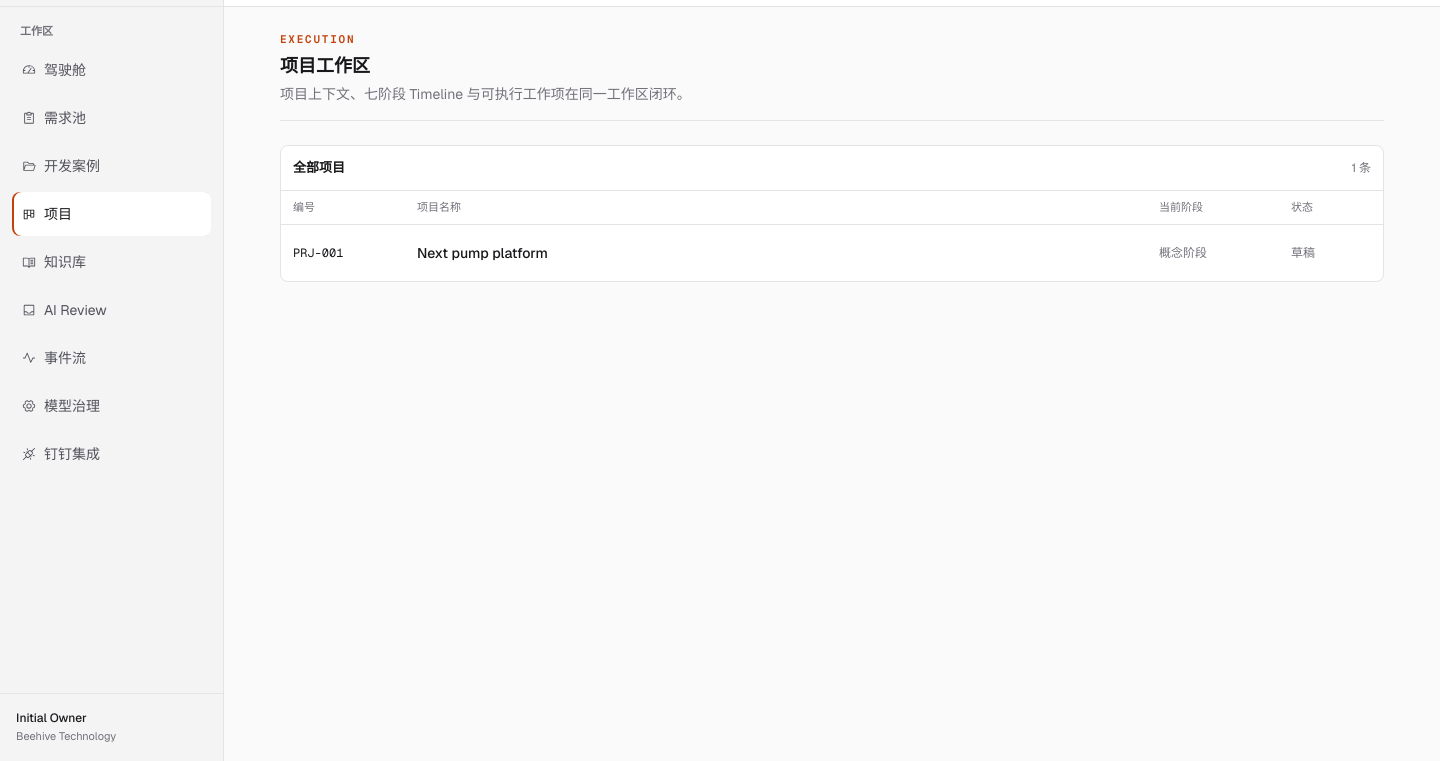
Test: ProjectWorkspace › loads exception-first Gate readiness and private document metadata lazily
Click the button with aria-label "打开项目 PRJ-001" at (318, 253), box left=281, top=225, right=1383, bottom=281
(page scrolled)
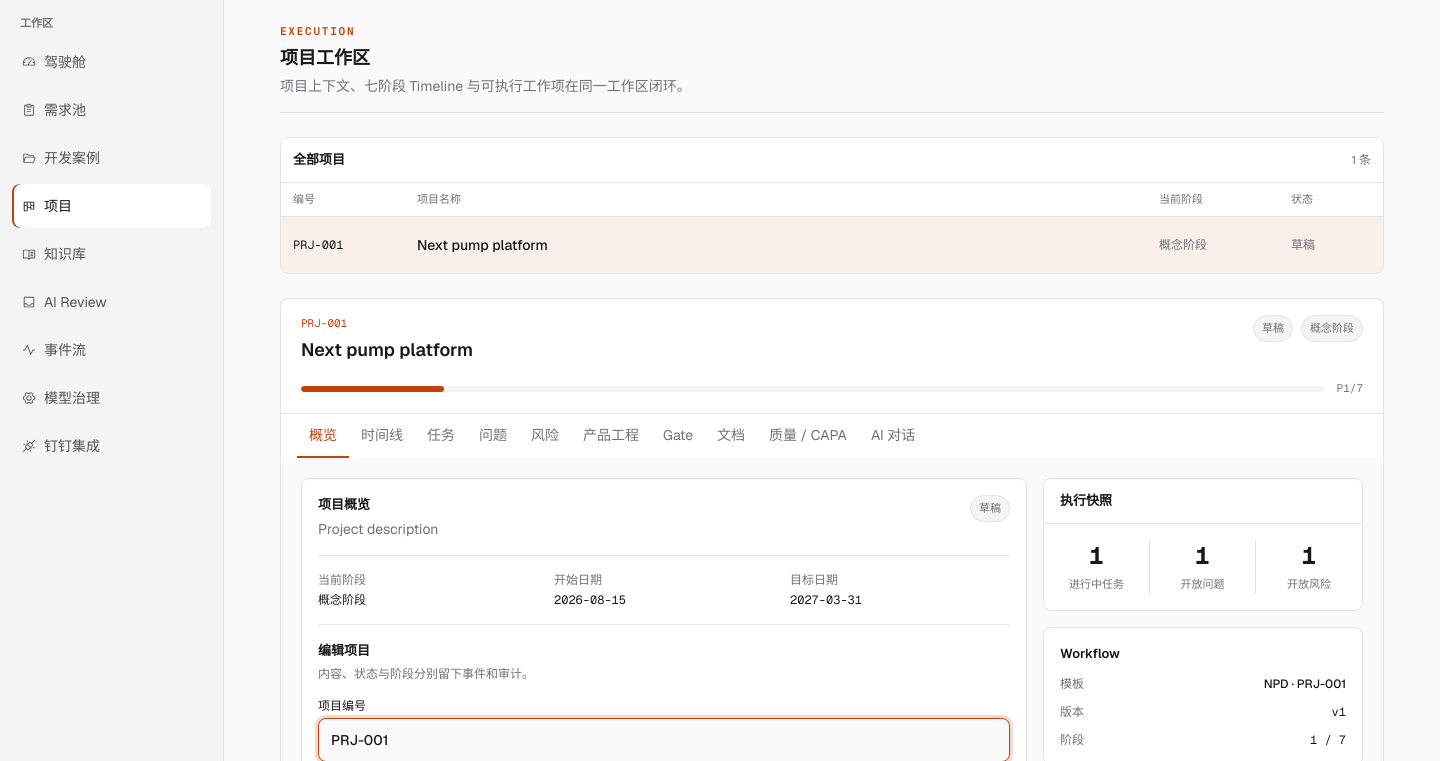
Click the tab "Gate" at (678, 436), box left=651, top=414, right=705, bottom=458
(page scrolled)
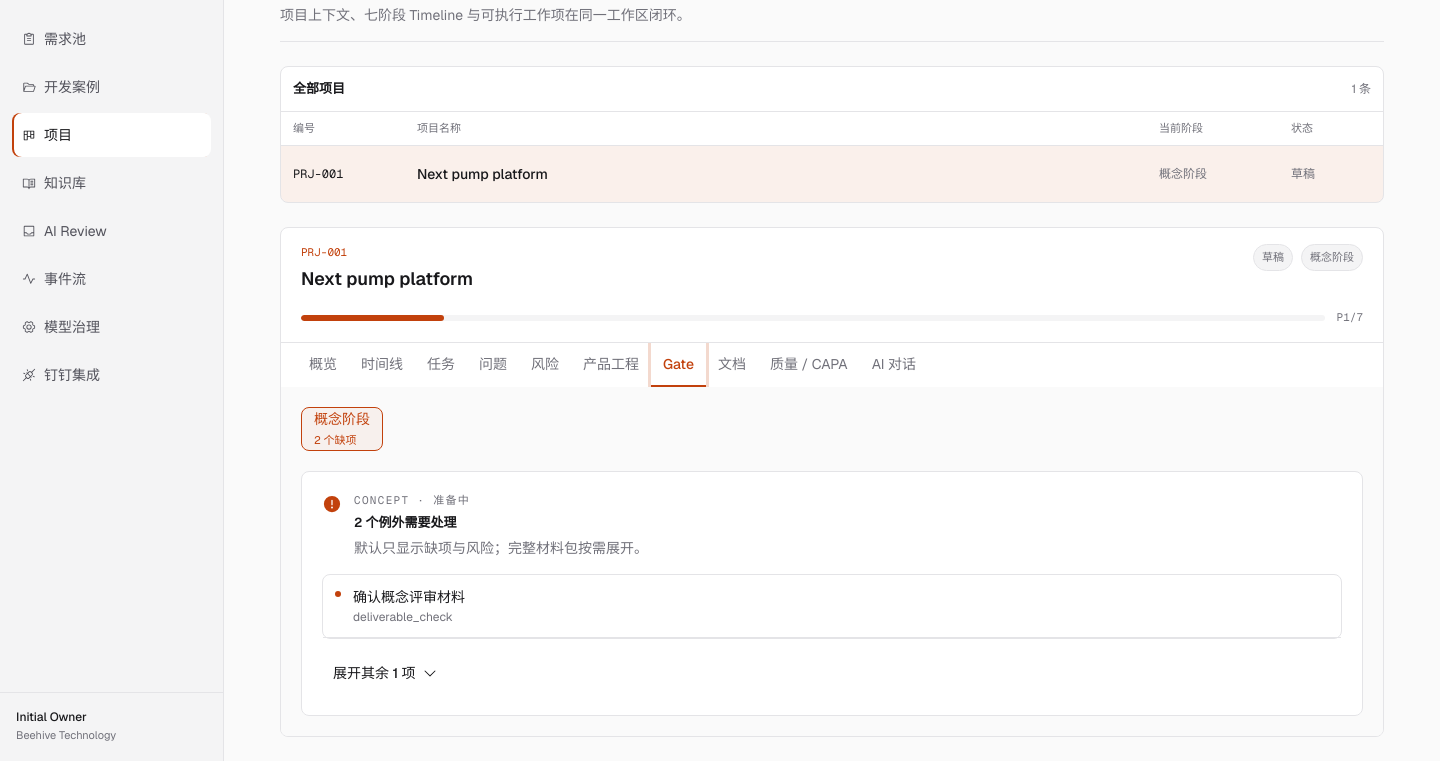
Expected: the text "供应商交期风险" is not shown
Expected: the heading "2 个例外需要处理" is shown, left=354, top=514, right=456, bottom=531
Expected: the text "确认概念评审材料" is shown, left=353, top=586, right=465, bottom=606
Click the button "展开其余 1 项" at (385, 672), box left=322, top=650, right=448, bottom=694
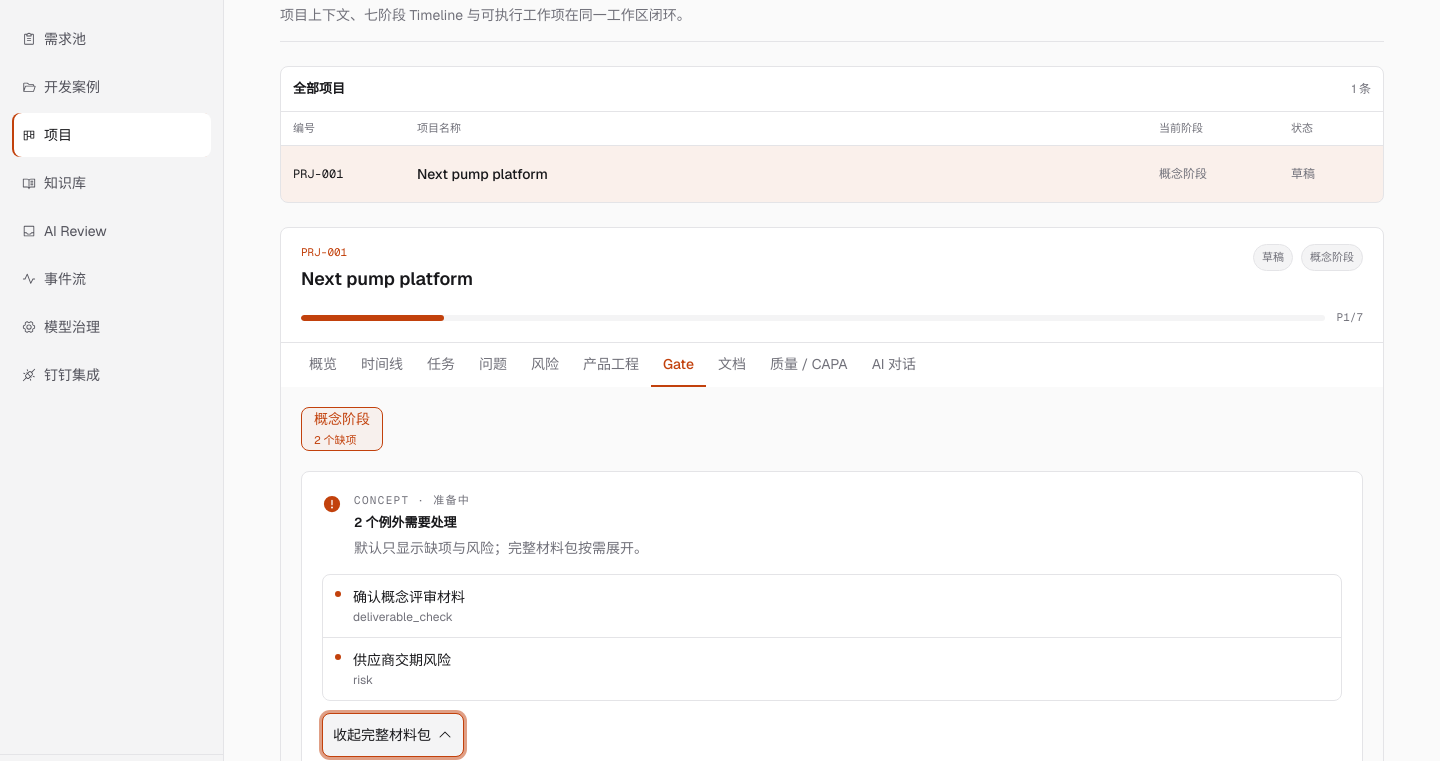
Expected: the text "供应商交期风险" is shown, left=353, top=650, right=451, bottom=670
Click the tab "文档" at (732, 365), box left=706, top=343, right=758, bottom=387
(page scrolled)
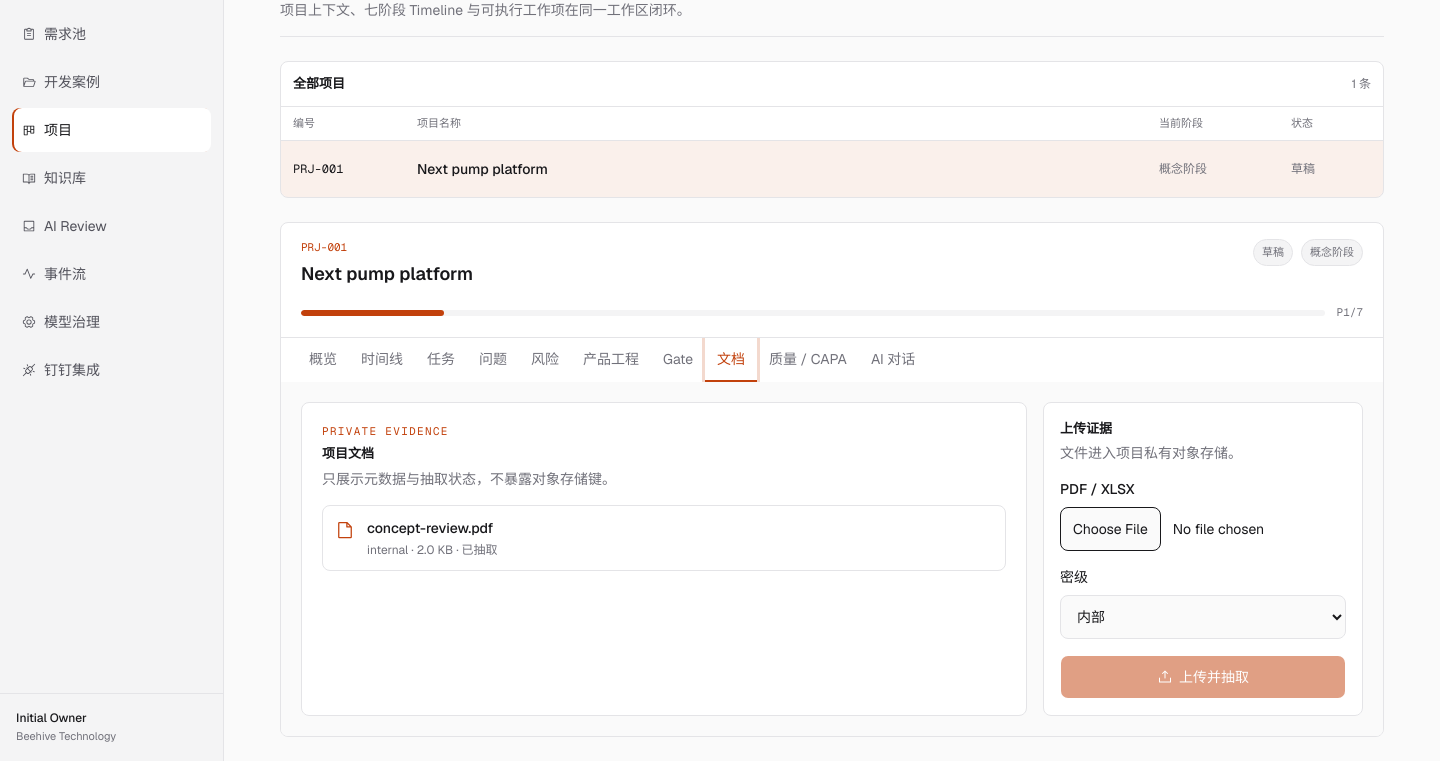
Expected: the text "concept-review.pdf" is shown, left=367, top=518, right=493, bottom=536
Expected: the text "internal · 2.0 KB · 已抽取" is shown, left=367, top=542, right=498, bottom=558
Expected: the button "上传并抽取" is disabled, left=1060, top=656, right=1346, bottom=700
